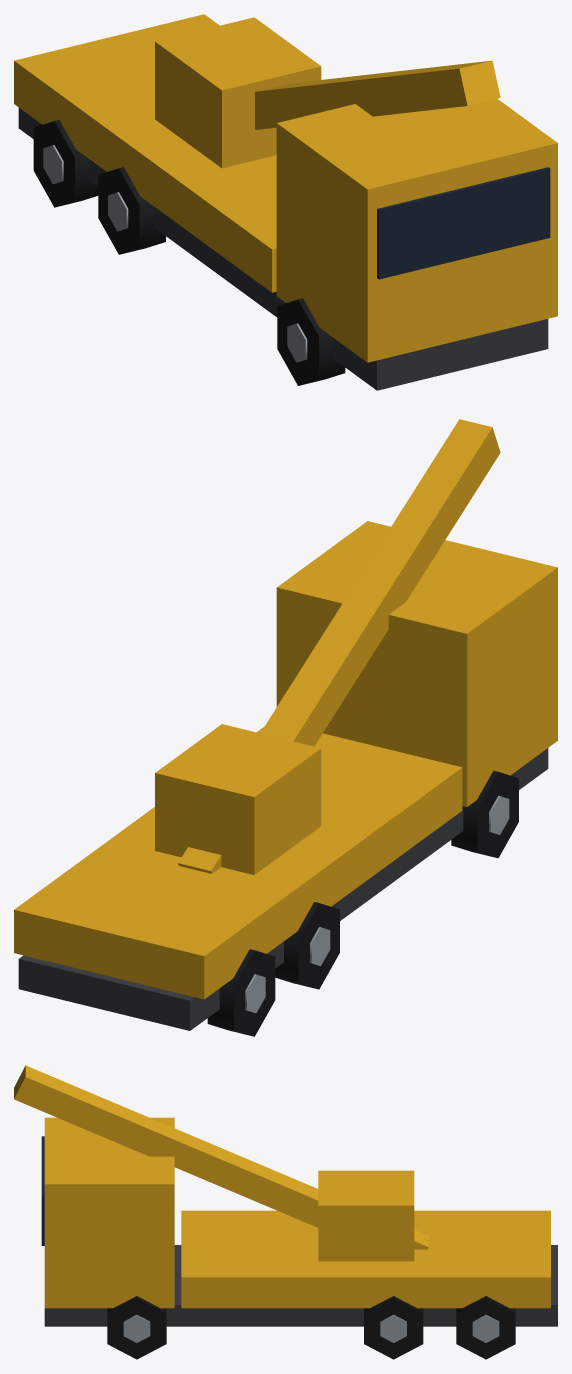
Rendered from veh_ground_crane_truck_a07_lod1.glb.
3 renders of one model, top to bottom at view 1: azimuth 30°, elevation 25°; view 2: azimuth 150°, elevation 25°; view 3: azimuth 270°, elevation 25°, orthographic. The views are drawn at different scales.
Parts seen in each view (by area): view 1: body, crane, wheel_4, wheel_0, wheel_2; view 2: body, crane, wheel_0, wheel_4, wheel_2; view 3: body, crane, wheel_5, wheel_1, wheel_3.
Boxes of the visible parts, box(x1,y1,x2,y2) form: body: box(14, 14, 557, 390); crane: box(155, 17, 500, 168); wheel_4: box(277, 298, 345, 385); wheel_0: box(33, 120, 98, 207); wheel_2: box(98, 167, 165, 254); body: box(14, 521, 557, 1030); crane: box(155, 419, 500, 874); wheel_0: box(207, 949, 275, 1036); wheel_4: box(451, 770, 518, 858); wheel_2: box(275, 902, 339, 989); body: box(41, 1117, 557, 1326); crane: box(14, 1065, 428, 1261); wheel_5: box(107, 1296, 166, 1359); wheel_1: box(456, 1296, 515, 1359); wheel_3: box(364, 1296, 423, 1359).
Size of the model in its own units: 2.46 by 4.09 by 7.95.
